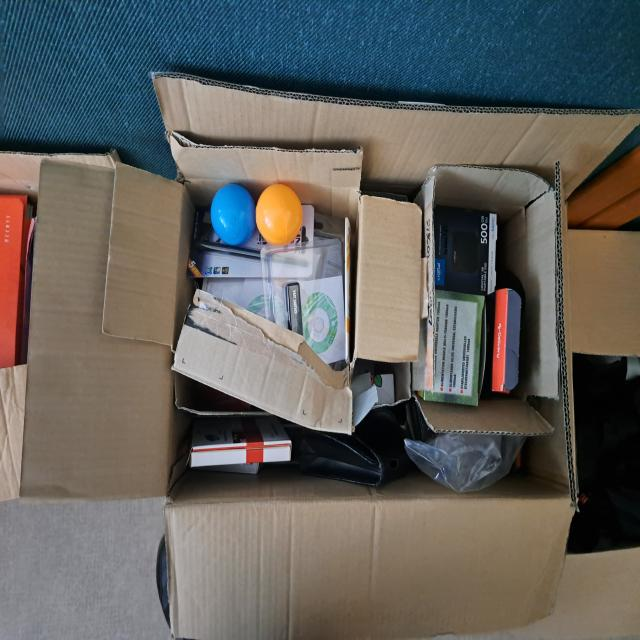blue: (210, 181, 256, 250)
orange: (254, 182, 303, 248)
